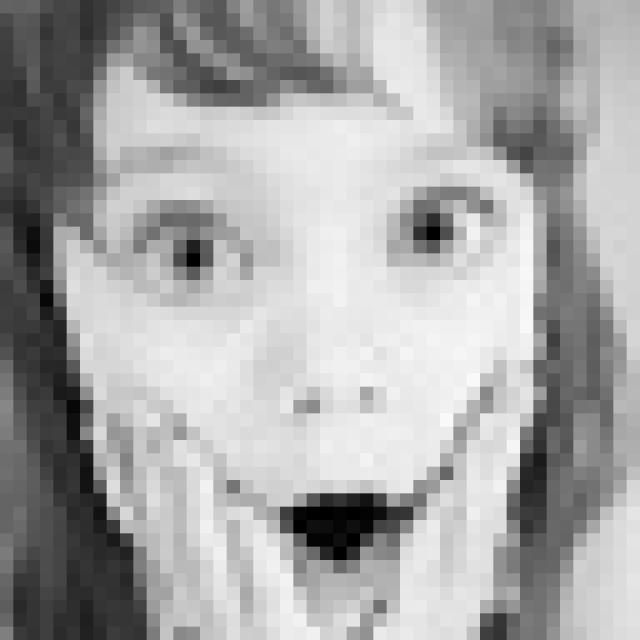surprise: (104, 135, 511, 563)
